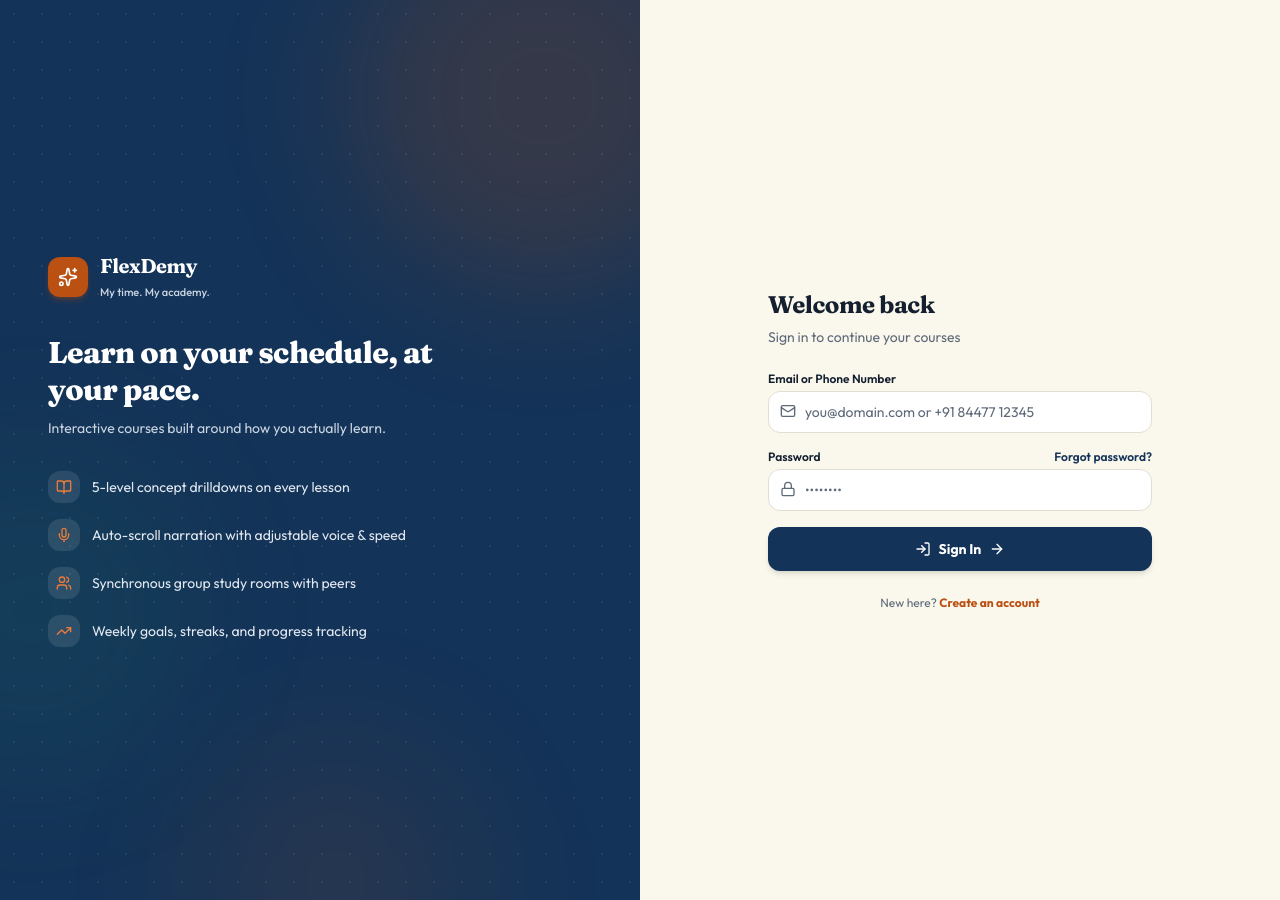
Test: App post-auth role gate › renders ProfileSetupPage when the signed-in user role is Unassigned
Step 1. Type "hem@flexdemy.com" into the field with placeholder "you@domain.com or +91 84477 12345" → (960, 412), box [768, 391, 1152, 433]
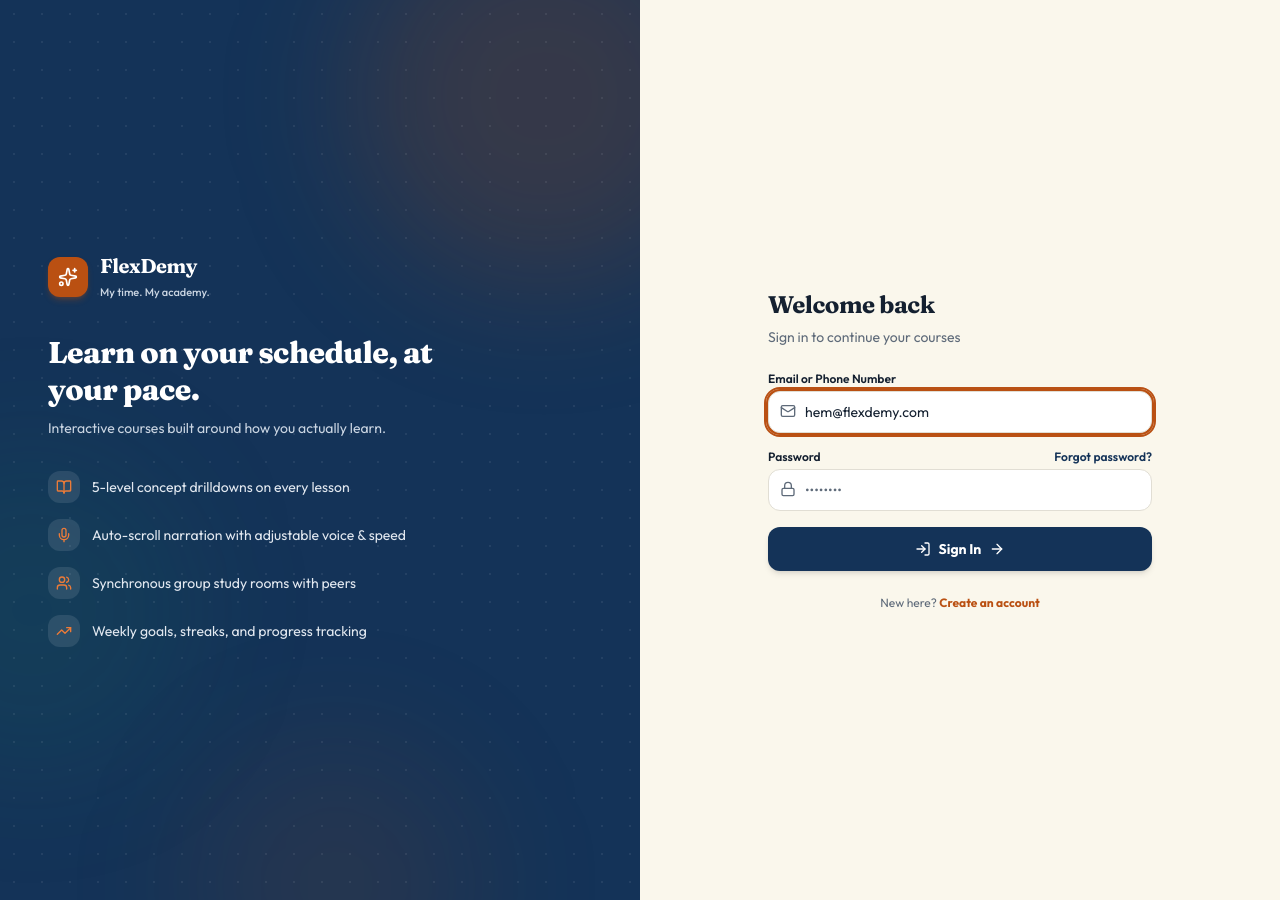
Step 2. Type "Password@123" into the password field with placeholder "••••••••" → (960, 490), box [768, 469, 1152, 511]
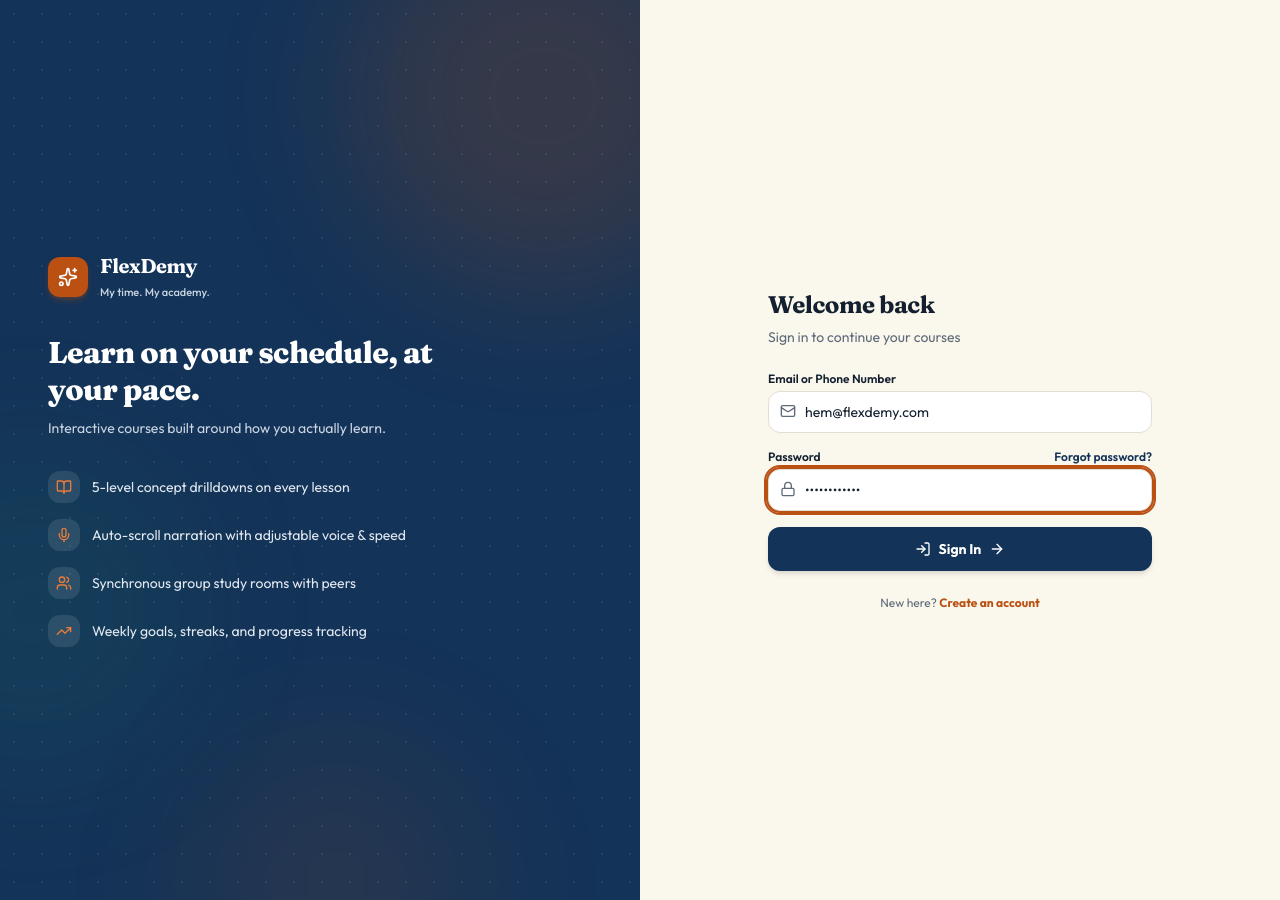
Step 3. Click the button "Sign In" → (960, 549), box [768, 527, 1152, 571]
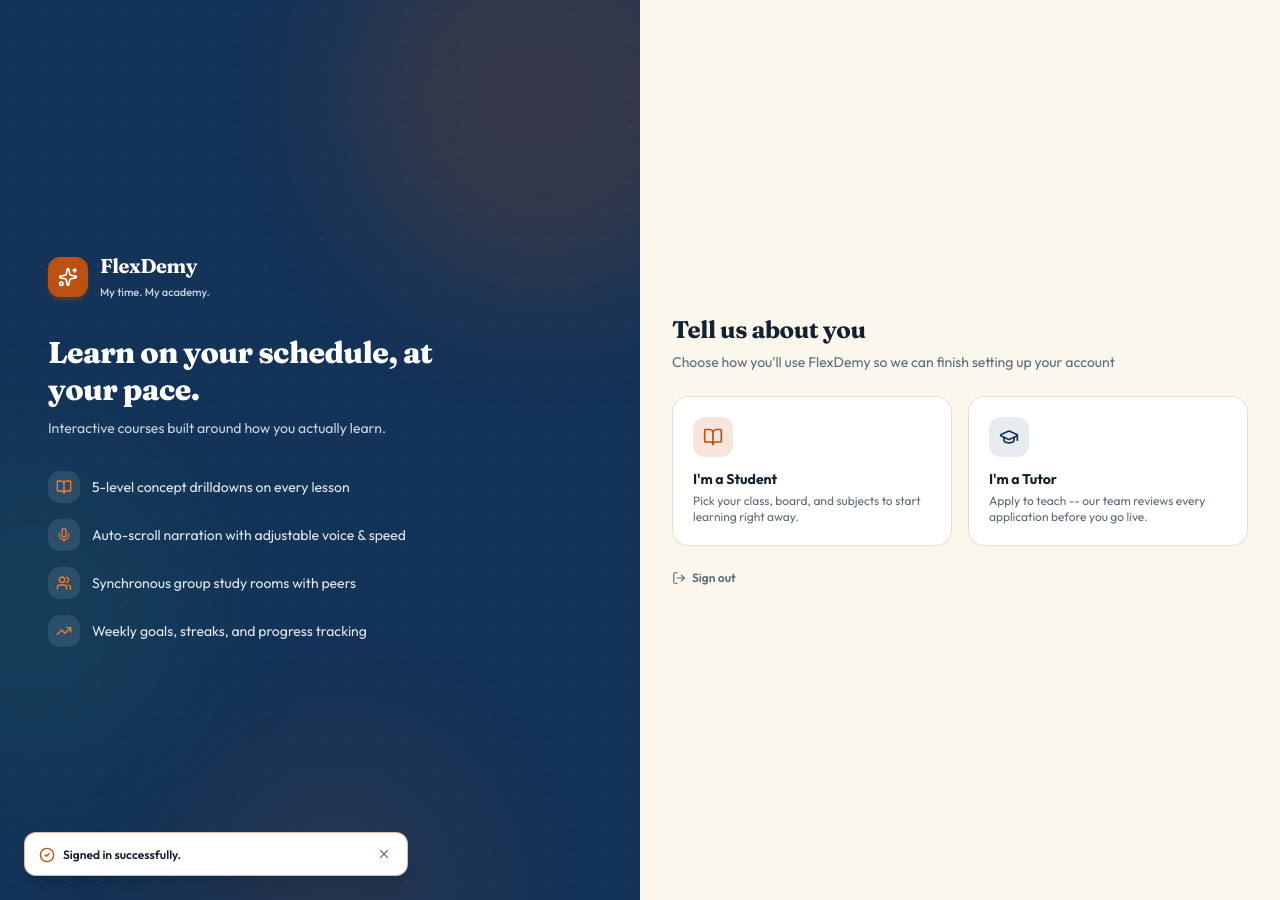
Result: the text "I'm a Student" is shown at [693, 470, 777, 488]
Result: the text "I'm a Tutor" is shown at [989, 470, 1057, 488]
